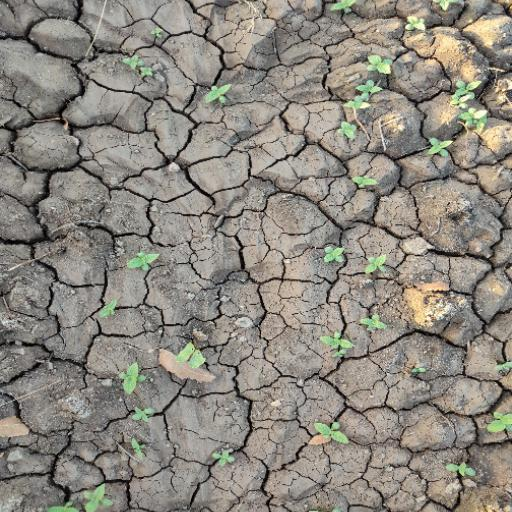crop: (114, 355, 163, 480), (333, 44, 393, 146), (90, 243, 161, 327), (319, 307, 390, 355), (446, 75, 487, 141), (321, 241, 394, 276), (304, 414, 354, 453), (203, 78, 238, 107)
